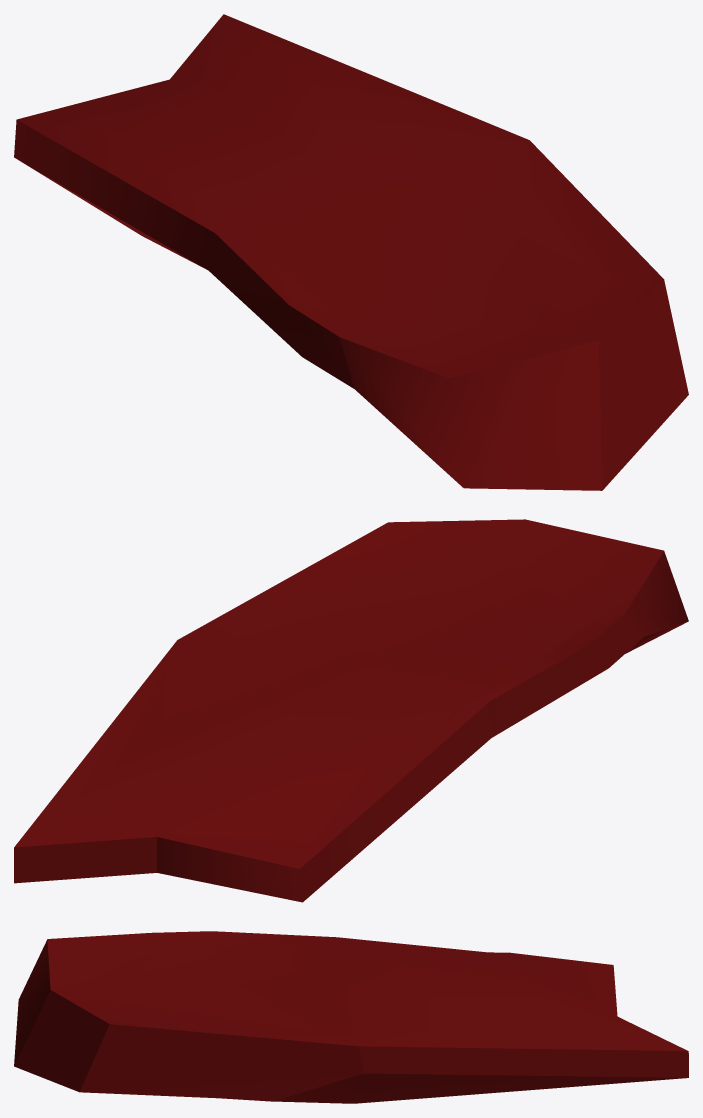
File: FloatEarth3.fbx
The picture shows the model from 3 angles, top to bottom: view 1: azimuth 30°, elevation 25°; view 2: azimuth 150°, elevation 25°; view 3: azimuth 270°, elevation 25°; orthographic projection. The views are drawn at different scales.
Parts seen in each view (by area): view 1: FloatEarth3; view 2: FloatEarth3; view 3: FloatEarth3.
Part boxes in pixels (x1=…): FloatEarth3: x1=14, y1=14, x2=688, y2=490; FloatEarth3: x1=14, y1=519, x2=688, y2=902; FloatEarth3: x1=14, y1=931, x2=688, y2=1103.
Bounding box in the file's own units: 678 × 1634 × 244.
